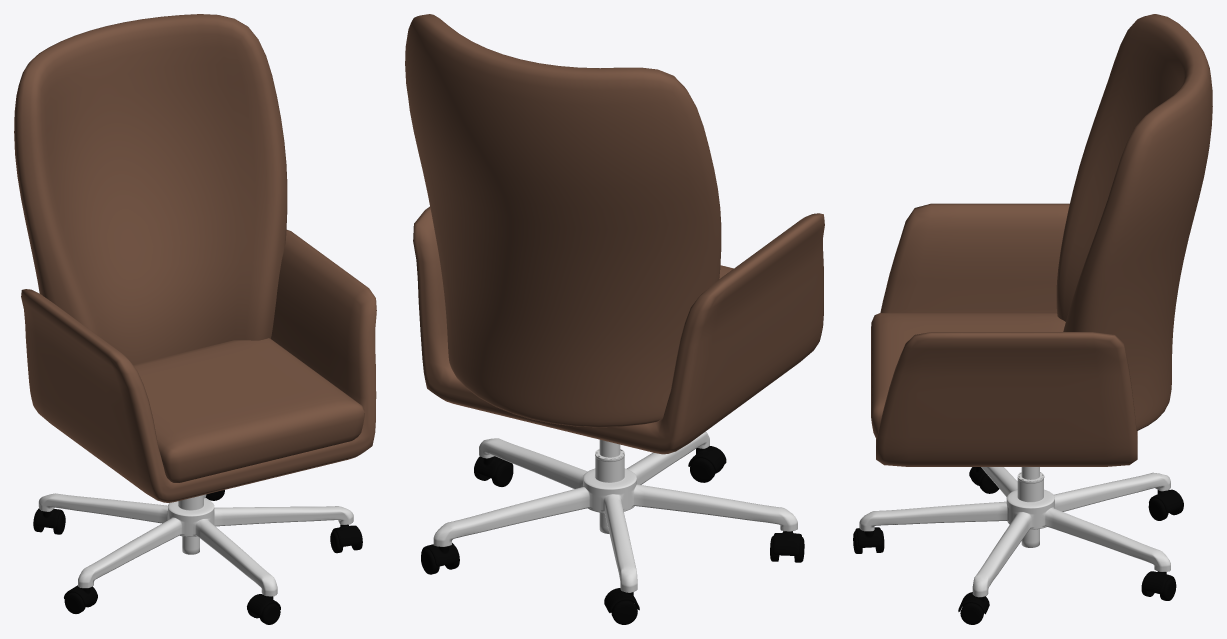
File: seat_big.glb
3 views of the same model, side by side, from view 1: azimuth 30°, elevation 25°; view 2: azimuth 150°, elevation 25°; view 3: azimuth 270°, elevation 25° (orthographic). The views are drawn at different scales.
Parts seen in each view (by area): view 1: seat_side_low_7, pasted__pCylinder1_7; view 2: seat_side_low_7, pasted__pCylinder1_7; view 3: seat_side_low_7, pasted__pCylinder1_7.
Boxes of the visible parts, x1,y1,x2,y2 form: seat_side_low_7: (14,14,376,502); pasted__pCylinder1_7: (33,490,362,624); seat_side_low_7: (405,14,824,454); pasted__pCylinder1_7: (421,431,804,624); seat_side_low_7: (871,14,1212,466); pasted__pCylinder1_7: (853,467,1183,624).
Bounding box in the file's own units: 0.772 × 1.22 × 0.8101.
